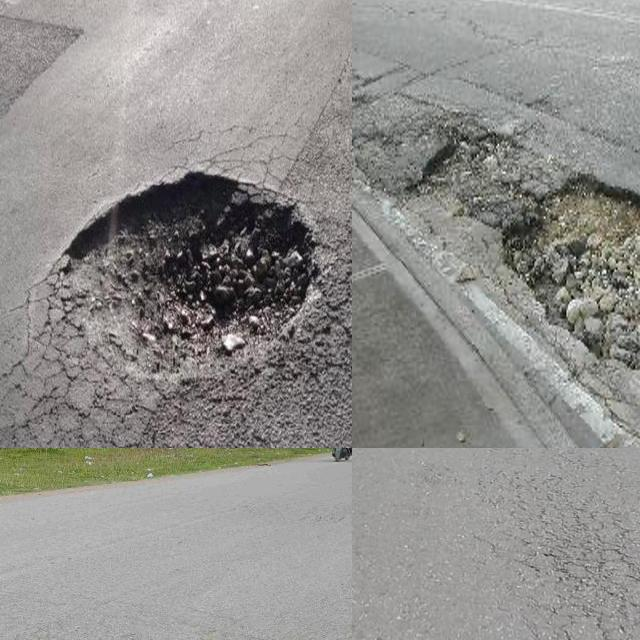Lubang: (42, 178, 317, 378), (508, 182, 640, 362), (404, 132, 515, 211)
Retak Buaya: (515, 460, 640, 640)
